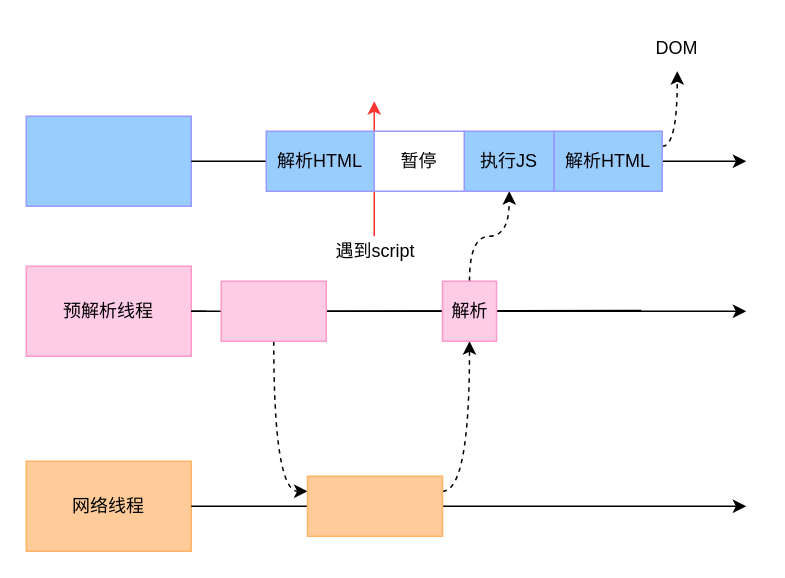
The diagram is 785 pixels wide and 578 high, and some of its shapes have lost their labels. Here are the shapes that lost their labels. From the top down, the centre of each, then its label:
At (108,160): "渲染主线程".
At (273,310): "快速浏览".
At (374,505): "下载JS".
